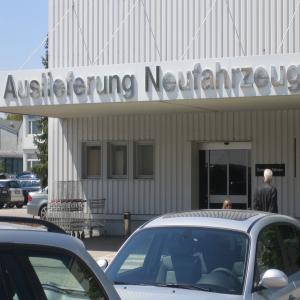Vehicle-registration-plate: (16, 191, 22, 195)
